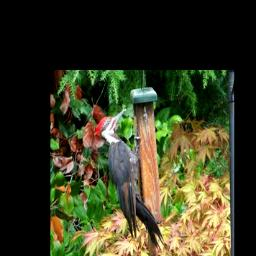Woodpecker: (93, 108, 164, 249)
